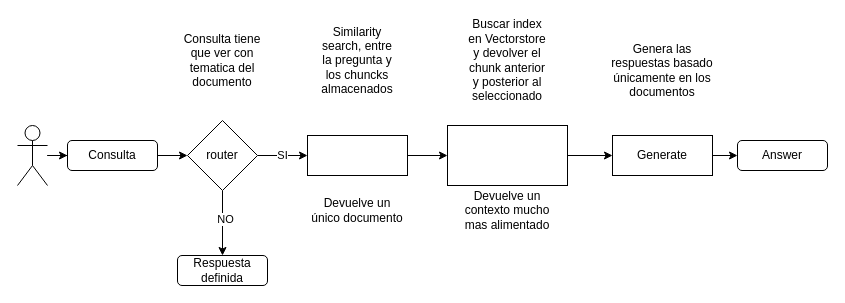
Image size: 845x303. Some labels were removed from this diagram. The centre of each missing label's shape, as x and y in pixels:
"Get context" goes at [507,155].
"User" goes at [32,155].
"Vectorstore" goes at [357,155].
